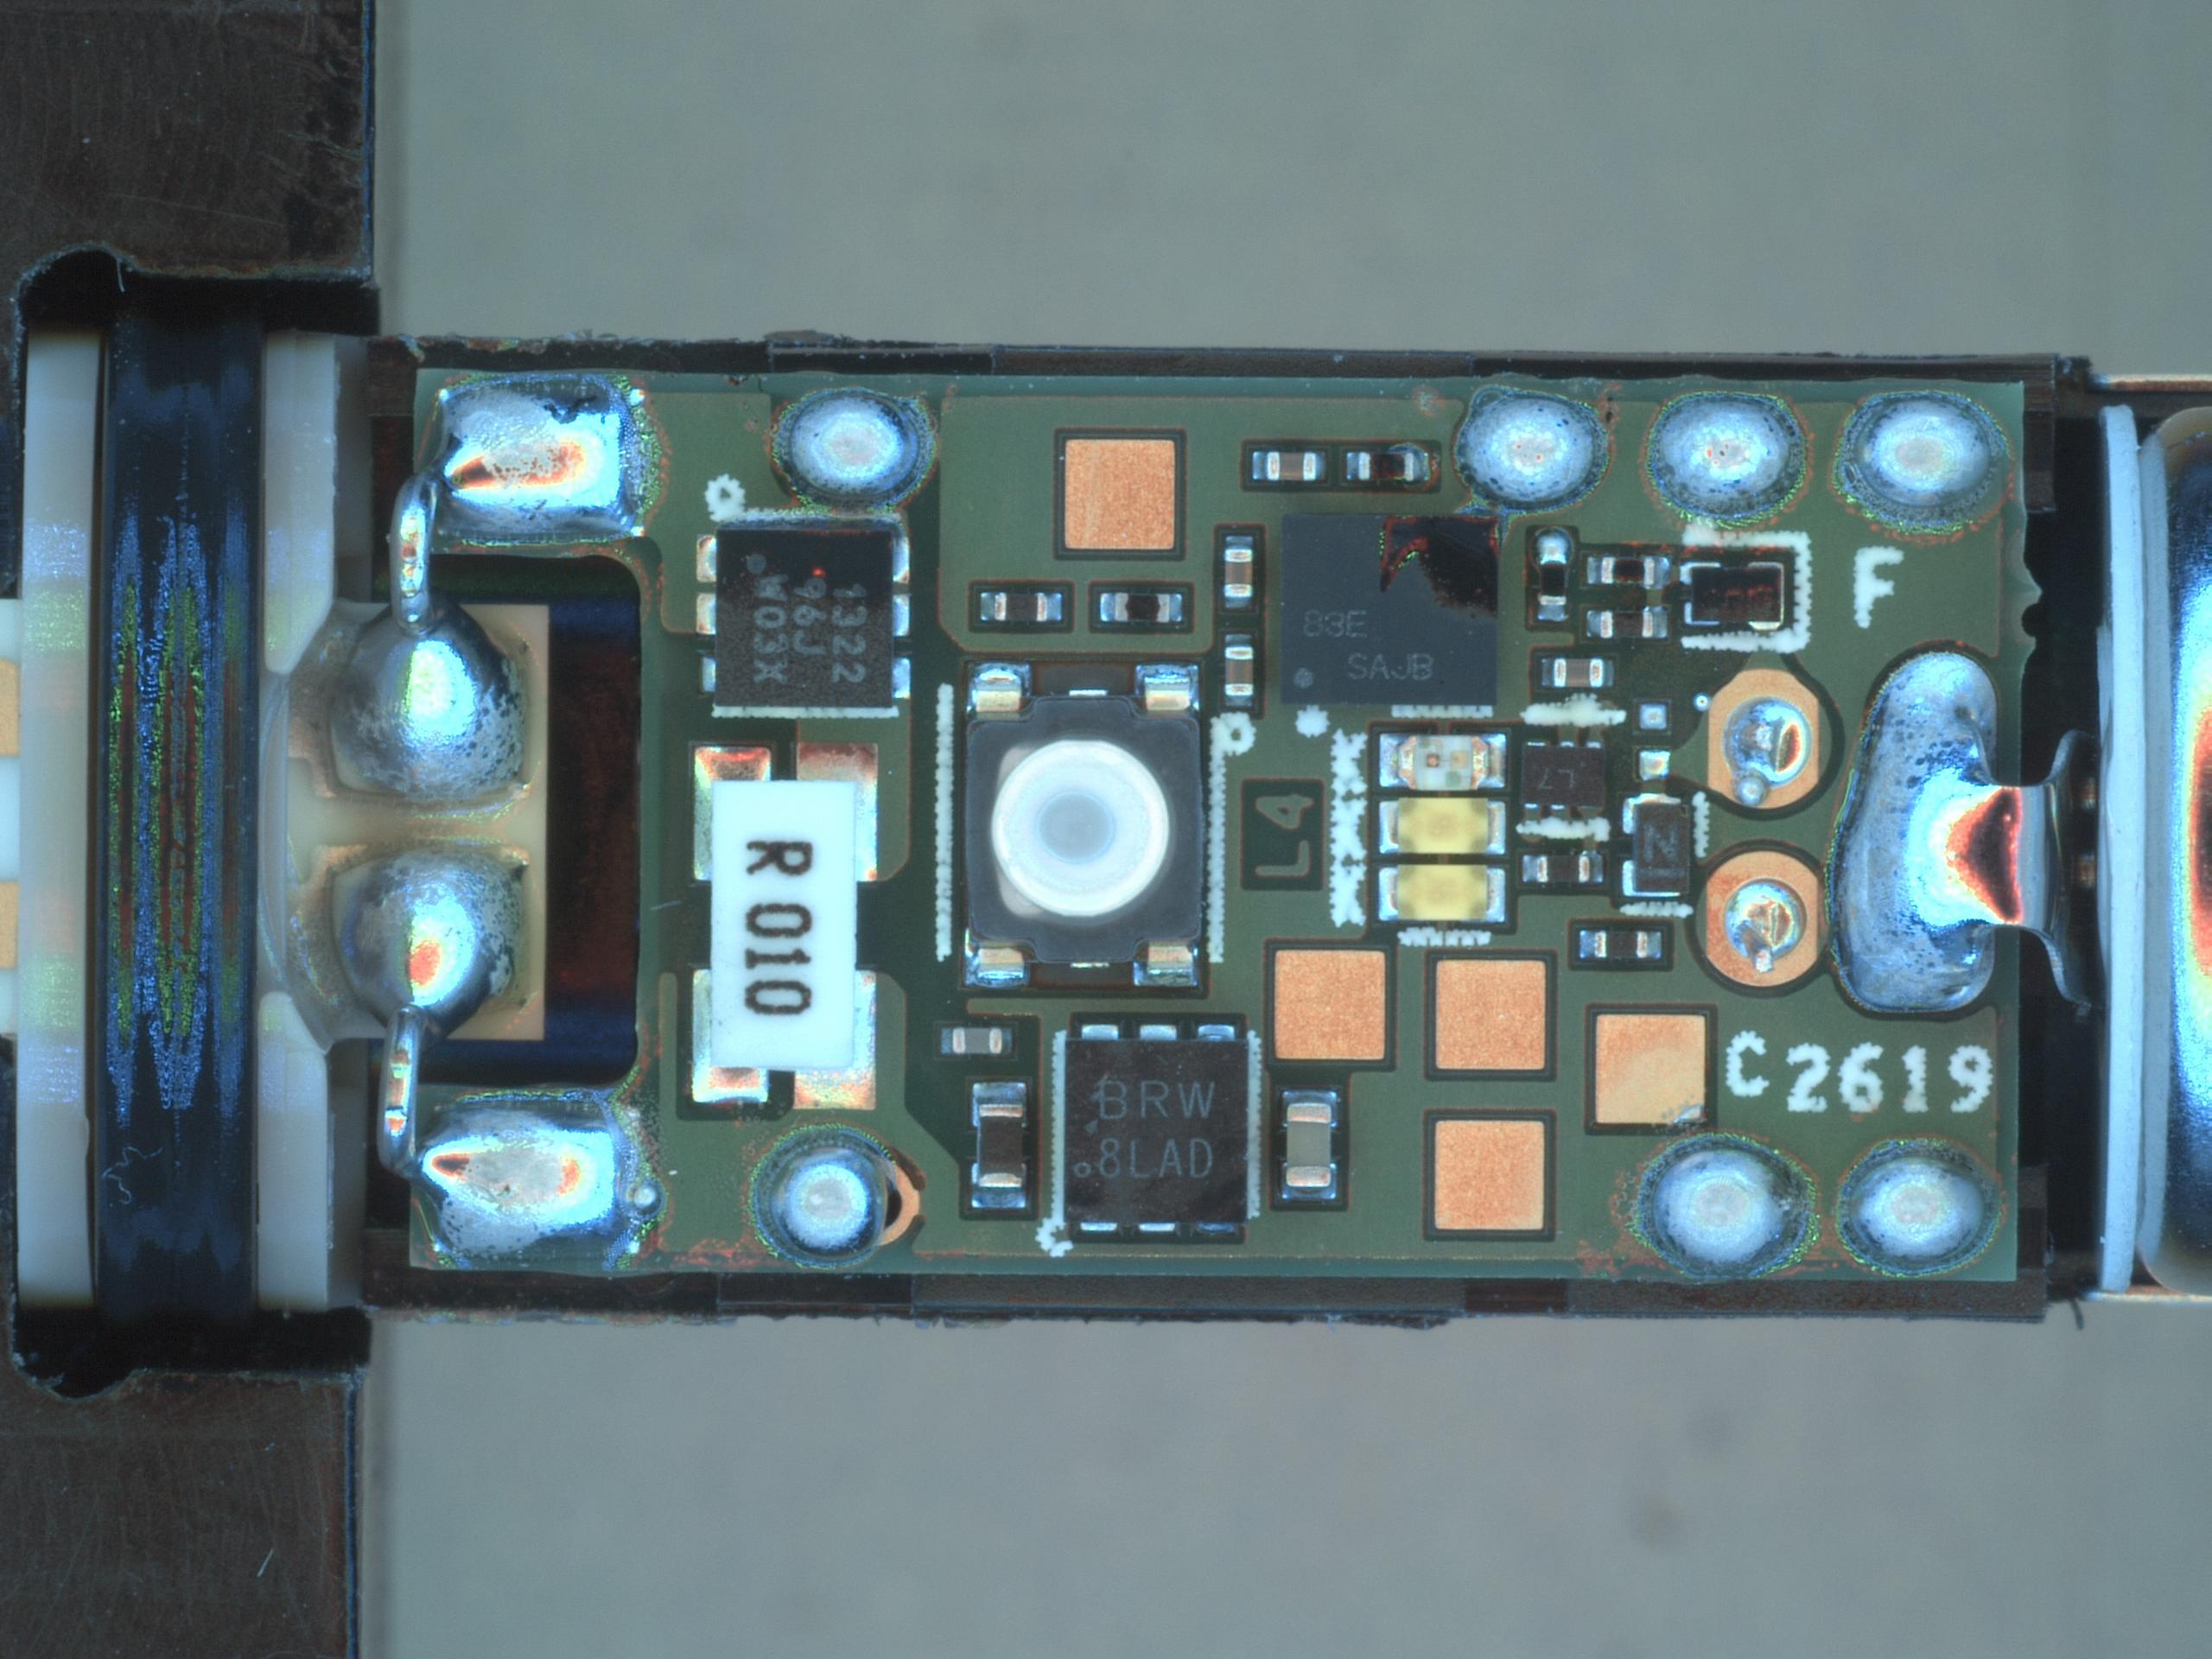solder: (745, 1124, 927, 1269)
solderball: (1695, 692, 1709, 709)
